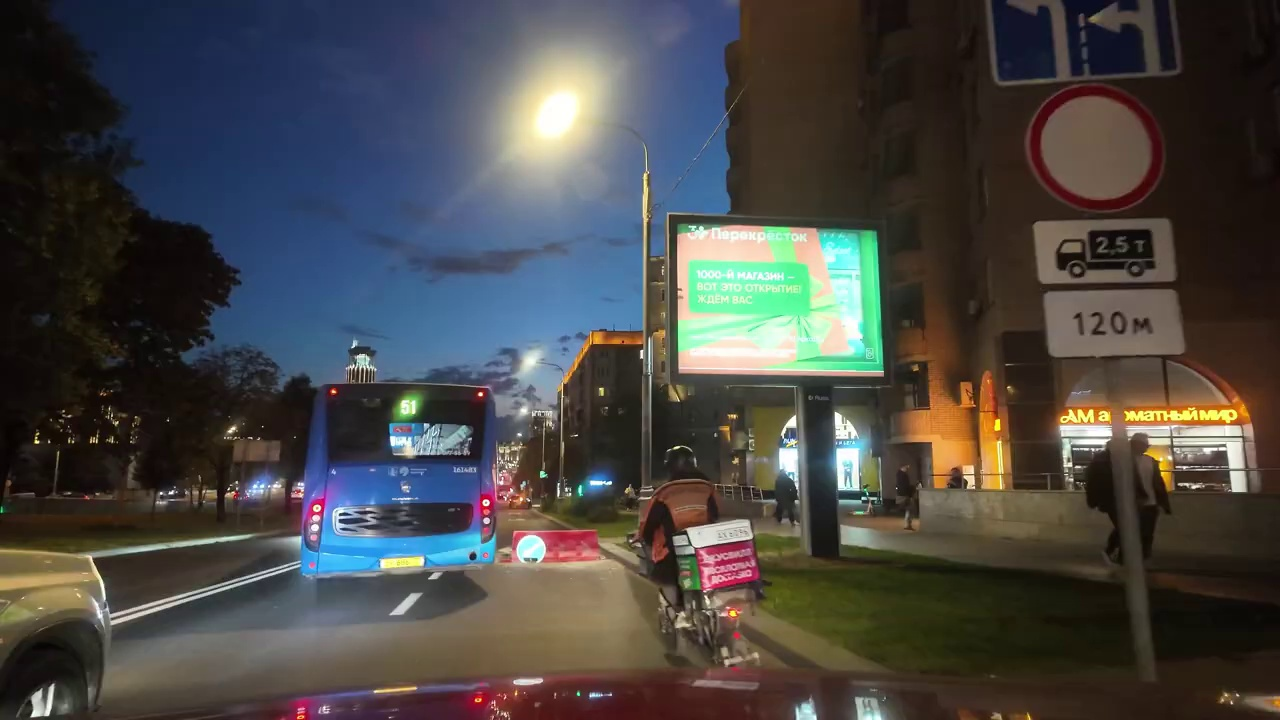acesa: (528, 84, 587, 148), (510, 347, 540, 381)
